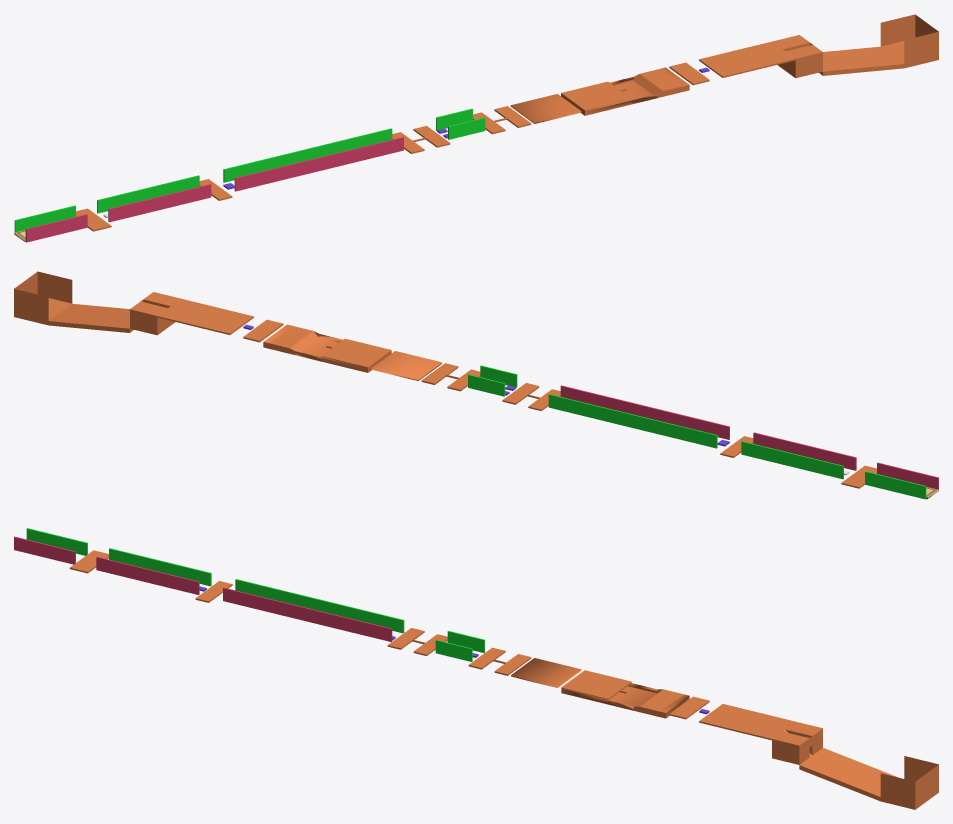
3 views of the same model, one above another, from view 1: azimuth 30°, elevation 25°; view 2: azimuth 150°, elevation 25°; view 3: azimuth 330°, elevation 25° (orthographic).
Visible parts, largest first — view 1: Cube.002 -col.061, Cube -col.002, Cube.001 -col.002, Cube.002 -col.052, Cube -col.001, Cube.001 -col.001, Cube.002 -col.051, Cube.002 -col.053, Cube -col, Cube.001 -col, Cube.002 -col.060, Cube.001 -col.005; view 2: Cube.002 -col.061, Cube.001 -col.002, Cube -col.002, Cube.002 -col.052, Cube.001 -col.001, Cube -col.001, Cube.002 -col.051, Cube.002 -col.053, Cube.001 -col, Cube -col, Cube.002 -col.060, Cube.001 -col.004 (+1 smaller); view 3: Cube.002 -col.061, Cube -col.002, Cube.002 -col.052, Cube.001 -col.002, Cube -col.001, Cube.001 -col.001, Cube.002 -col.051, Cube.002 -col.053, Cube -col, Cube.001 -col, Cube.002 -col.060.
Boxes of the visible parts, bbox=[...] form: Cube.002 -col.061: bbox=[772, 14, 938, 78]; Cube -col.002: bbox=[234, 137, 403, 191]; Cube.001 -col.002: bbox=[223, 128, 392, 182]; Cube.002 -col.052: bbox=[561, 77, 657, 115]; Cube -col.001: bbox=[108, 184, 211, 222]; Cube.001 -col.001: bbox=[97, 175, 199, 213]; Cube.002 -col.051: bbox=[510, 94, 581, 123]; Cube.002 -col.053: bbox=[633, 67, 689, 97]; Cube -col: bbox=[25, 214, 87, 242]; Cube.001 -col: bbox=[14, 205, 75, 232]; Cube.002 -col.060: bbox=[749, 41, 795, 65]; Cube.001 -col.005: bbox=[448, 117, 485, 139]; Cube.002 -col.061: bbox=[14, 271, 180, 335]; Cube.001 -col.002: bbox=[548, 394, 717, 448]; Cube -col.002: bbox=[560, 385, 729, 439]; Cube.002 -col.052: bbox=[295, 334, 391, 372]; Cube.001 -col.001: bbox=[741, 441, 843, 479]; Cube -col.001: bbox=[753, 432, 856, 470]; Cube.002 -col.051: bbox=[371, 351, 441, 380]; Cube.002 -col.053: bbox=[263, 324, 318, 354]; Cube.001 -col: bbox=[865, 471, 926, 499]; Cube -col: bbox=[877, 462, 938, 489]; Cube.002 -col.060: bbox=[157, 298, 203, 322]; Cube.001 -col.004: bbox=[468, 374, 505, 396]; Cube.002 -col.061: bbox=[772, 721, 938, 809]; Cube -col.002: bbox=[223, 587, 392, 641]; Cube.002 -col.052: bbox=[561, 670, 657, 710]; Cube.001 -col.002: bbox=[235, 579, 404, 633]; Cube -col.001: bbox=[96, 556, 199, 594]; Cube.001 -col.001: bbox=[109, 548, 211, 586]; Cube.002 -col.051: bbox=[511, 658, 581, 687]; Cube.002 -col.053: bbox=[633, 689, 689, 718]; Cube -col: bbox=[14, 536, 75, 564]; Cube.001 -col: bbox=[26, 528, 87, 555]; Cube.002 -col.060: bbox=[748, 716, 794, 740].
Bounding box in the file's own units: 1323 × 66.15 × 59.95.
Materials: 71 (2 with a texture image).
